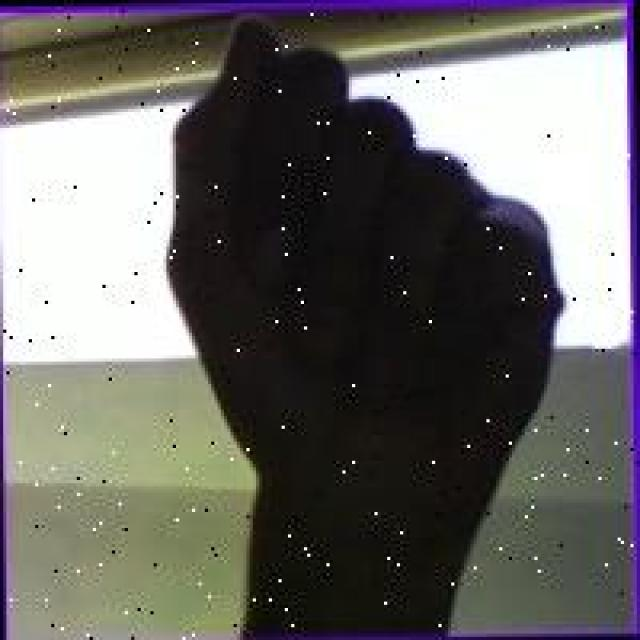A: (158, 5, 574, 526)
